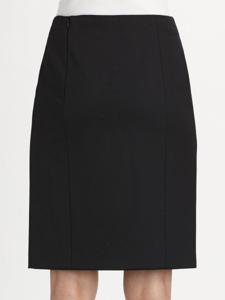F_tailored skirt: (22, 6, 204, 280)
